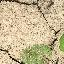Morning glory: (4, 10, 64, 64)
